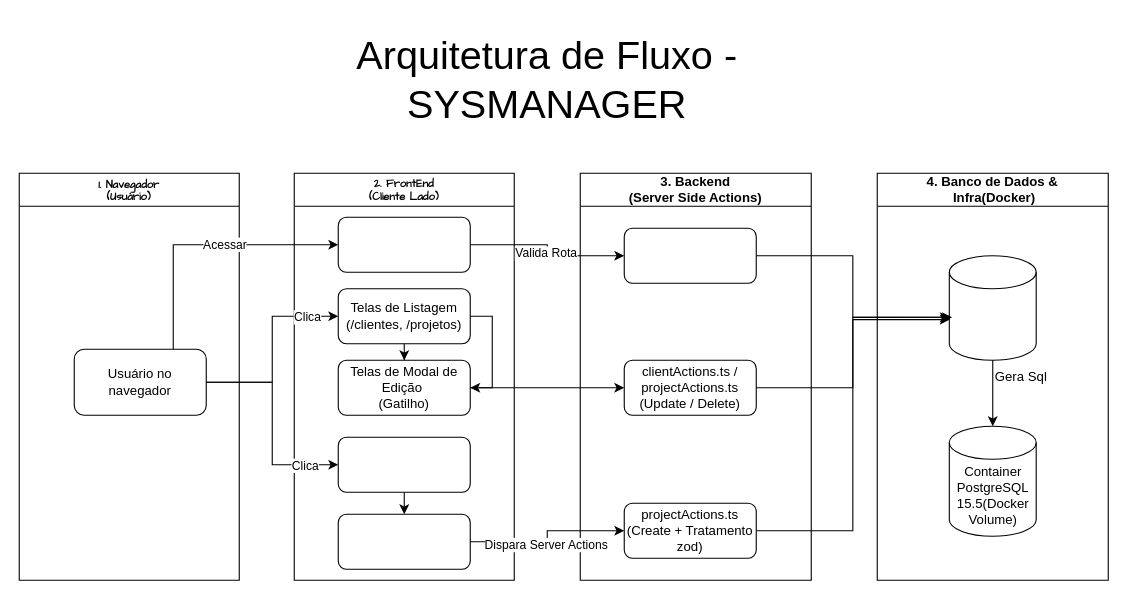
Image size: 1128x600. Some labels were removed from this diagram. Each missing label, with the centre of its shape:
"Formulário Passo Duplo (/ProjectFormClient)" belongs at point (403, 541).
"Middleware (Validar Sessão NextAuth)" belongs at point (689, 255).
"Navbar Global (menu princial)" belongs at point (403, 244).
"Prisma Orm (Abstração SQL)" belongs at point (992, 307).
"Telas de Cadastro (/novo-projetos)" belongs at point (403, 464).
